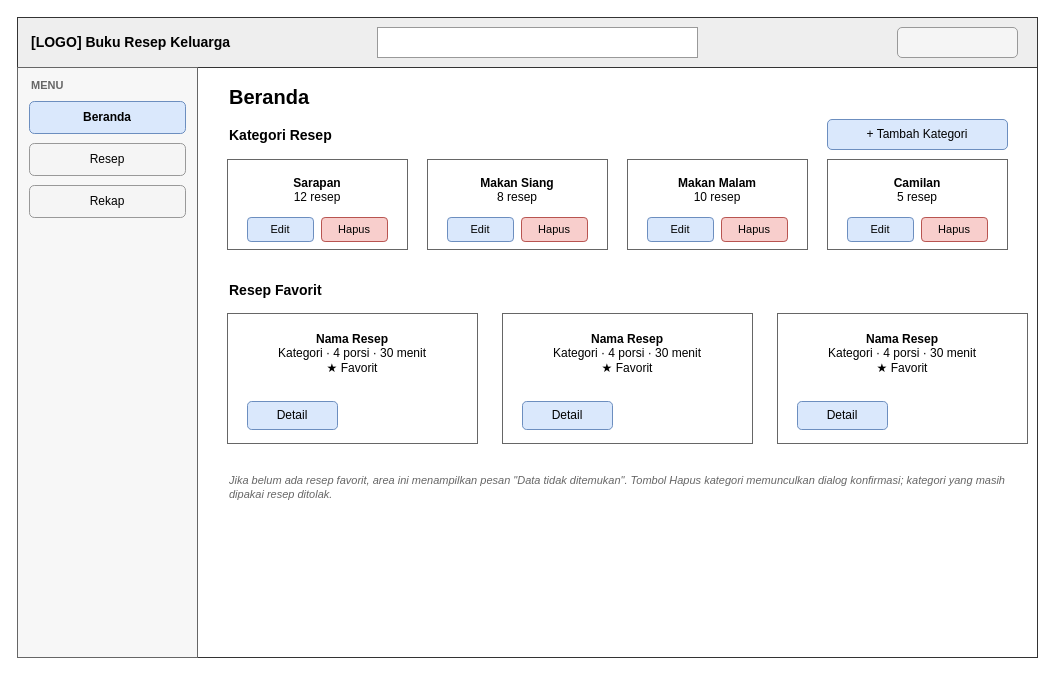
Image size: 1055x675. Some labels were removed from this diagram. The box of each missing label's shape, as (x1, y1, x2, y2) in pixels:
Cari resep (nama, kategori, bahan)...: (376, 26, 698, 58)
Profil ▾: (896, 26, 1018, 58)
